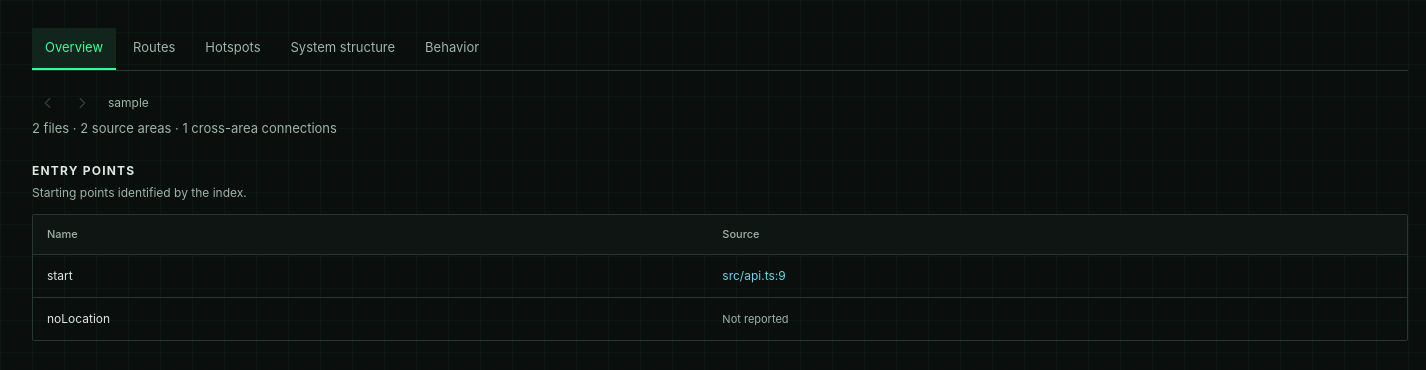
Test: architecture workspace › distinguishes missing hotspot measurements from a measured zero
Step 1. Click the button "Hotspots" → (233, 49), box [192,28,274,70]
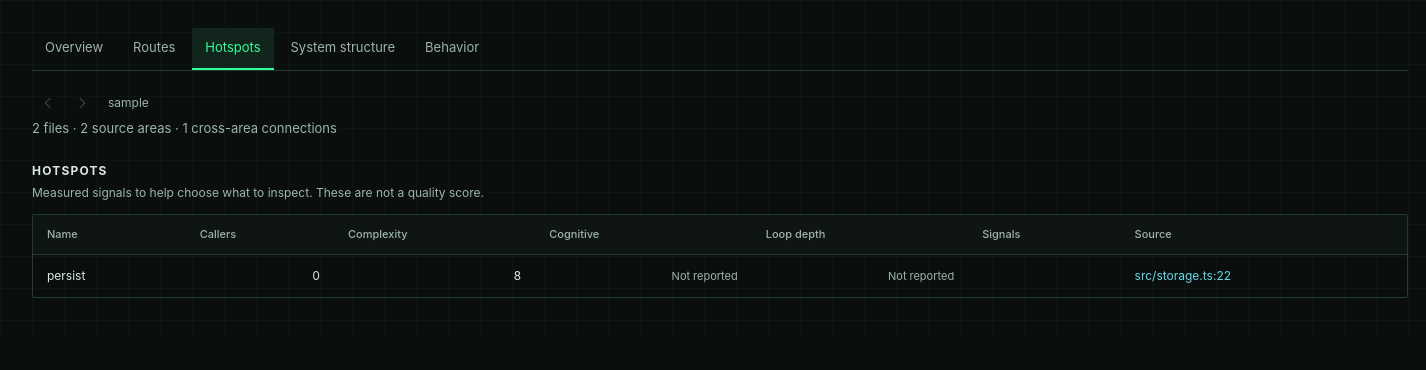
Check: the cell "0" is shown, box [186,254,334,296]
Check: the cell "8" is shown, box [334,254,535,296]
Check: the 1st cell "Not reported" is shown, box [535,254,752,296]
